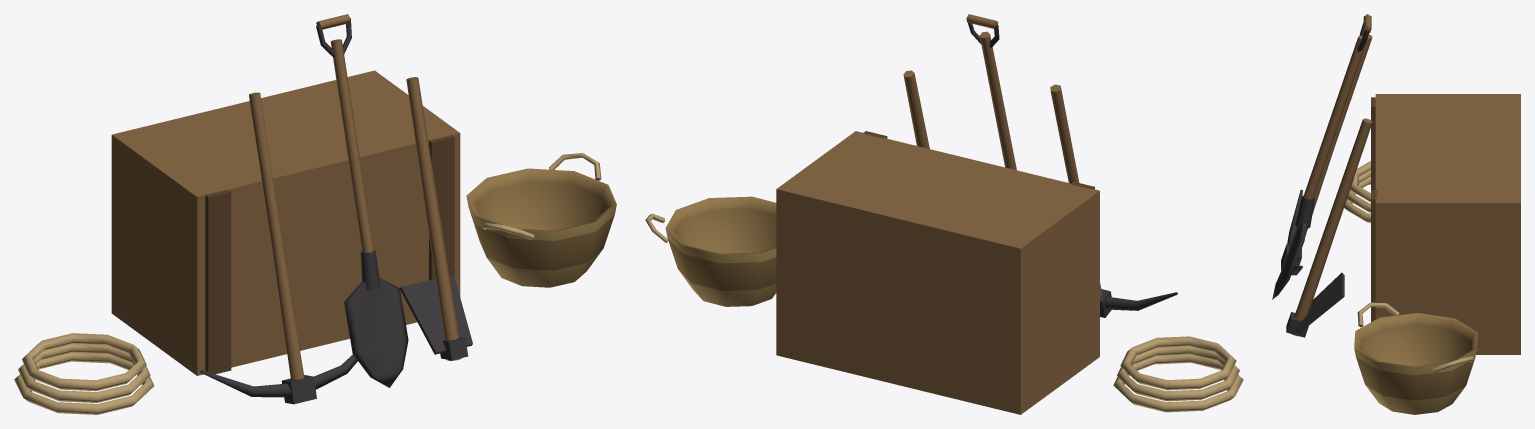
The model's file is dig_tools.glb.
3 renders of one model, left to right at view 1: azimuth 30°, elevation 25°; view 2: azimuth 150°, elevation 25°; view 3: azimuth 270°, elevation 25°, orthographic. The views are drawn at different scales.
Parts seen in each view (by area): view 1: dig_tools; view 2: dig_tools; view 3: dig_tools.
Boxes of the visible parts, x1=… form: dig_tools: x1=14, y1=14, x2=616, y2=414; dig_tools: x1=645, y1=14, x2=1243, y2=414; dig_tools: x1=1272, y1=14, x2=1520, y2=414.
Size of the model in its own units: 1.84 by 0.9662 by 0.7714.
